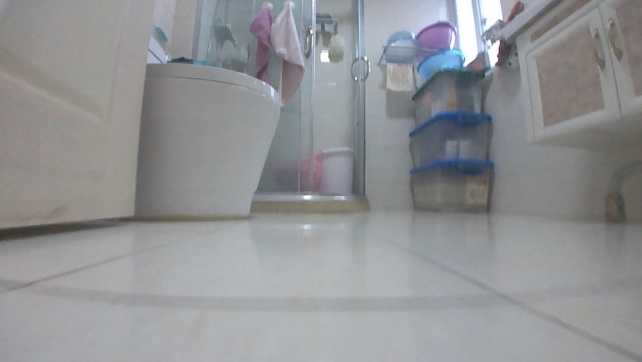toilet: (135, 58, 286, 220)
